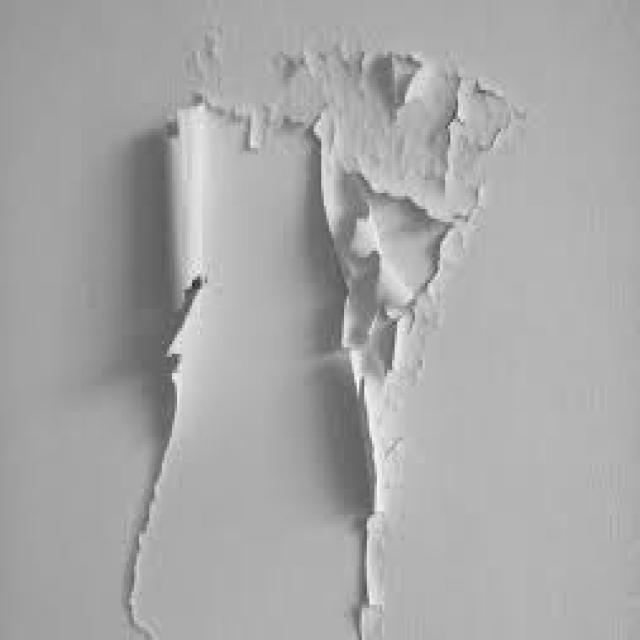peeling paint: (122, 0, 537, 640)
